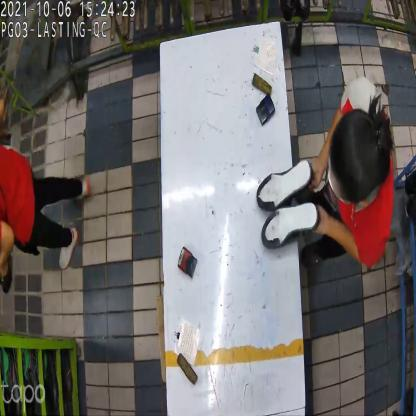shoes: (255, 172, 321, 244)
stamp: (177, 242, 198, 282), (254, 92, 276, 128)
